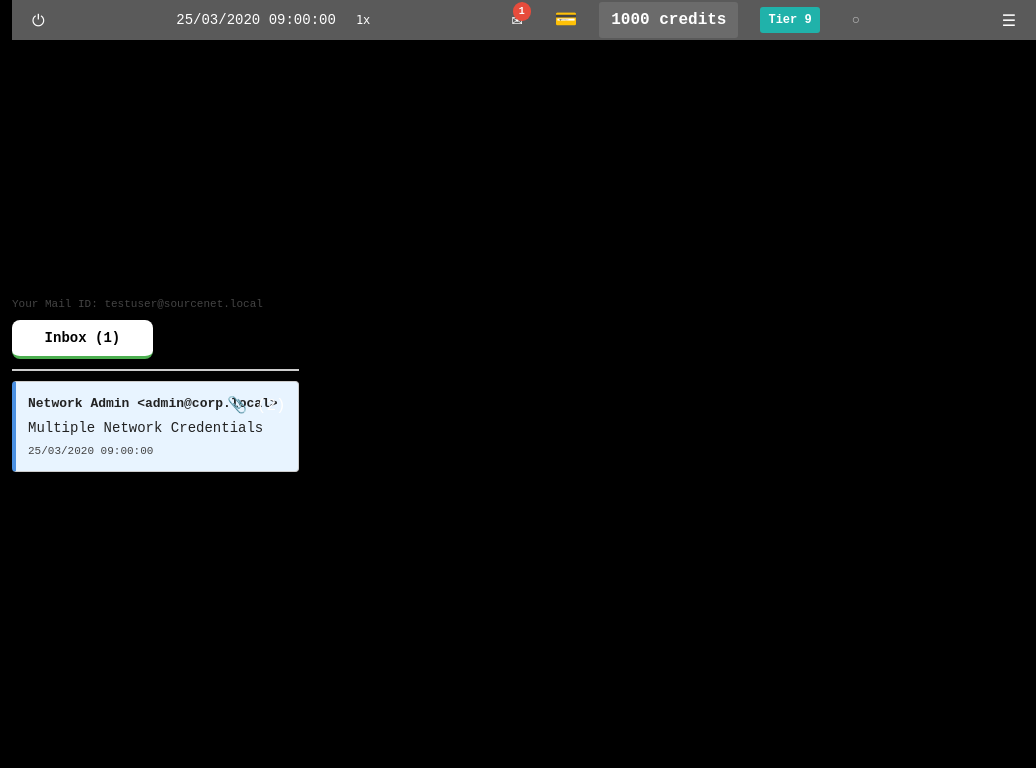
Test: Network Address Integration › should only mark clicked attachment as activated when message has multiple network attachments
The width and height of the screenshot is (1036, 768).
Expected: the text "Your Mail ID: testuser@sourcenet.local" is shown, [12,296,299,312]
// Open the message with multiple attachments
What coordinates should you click on to do the following:
click the text "Multiple Network Credentials"
I would click on:
 (157, 428)
Its box is [28,418,286,439].
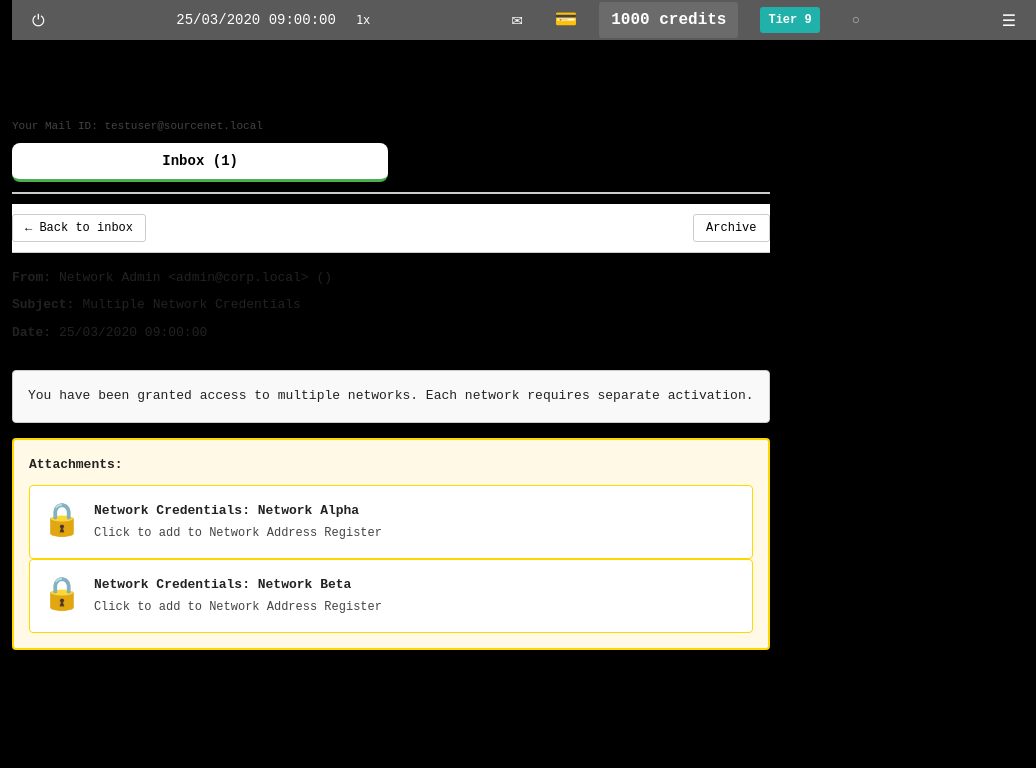
Now the text "Network Credentials: Network Alpha" is shown, box [94,503,359,518]
Now the text "Network Credentials: Network Beta" is shown, box [94,577,351,592]
Now the text "Click to add to Network Address Register" is shown 2 times, box [94,526,382,540]; [94,600,382,614]
// Click ONLY the first attachment (Network Alpha)
What coordinates should you click on to do the following:
click the button with test id "network-attachment-network-alpha"
I would click on:
 (62, 521)
Its box is [29,485,752,559].
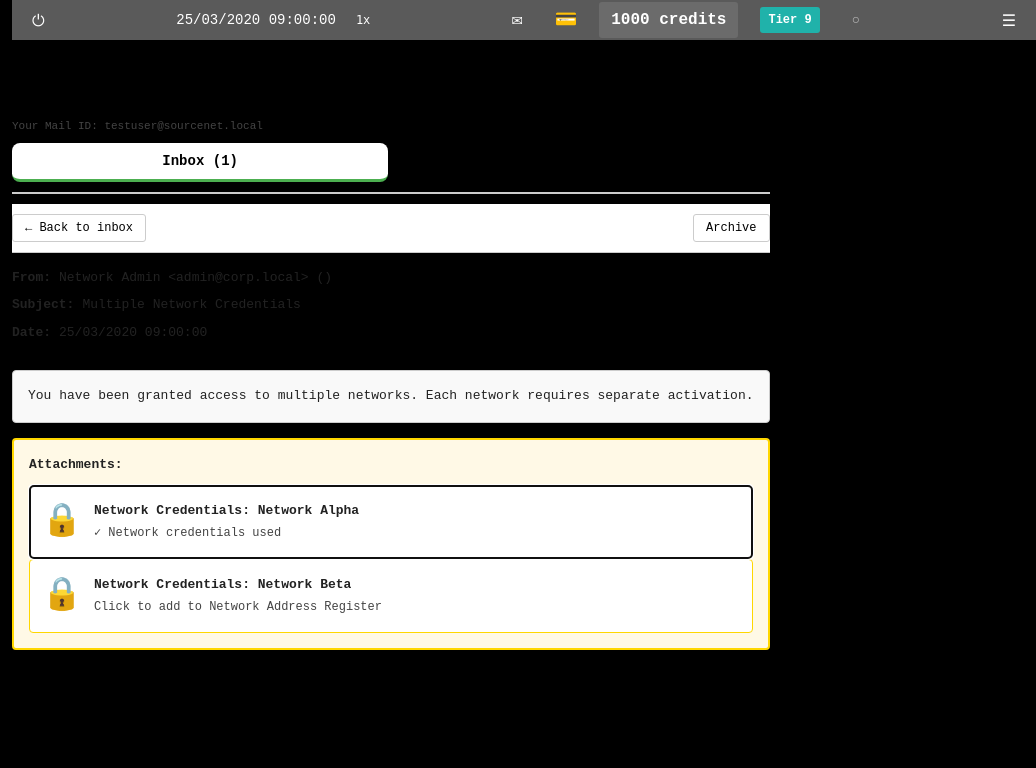
Now the text "Click to add to Network Address Register" is shown once, box [94,600,382,614]
Now the text "✓ Network credentials used" is shown, box [94,526,281,540]
